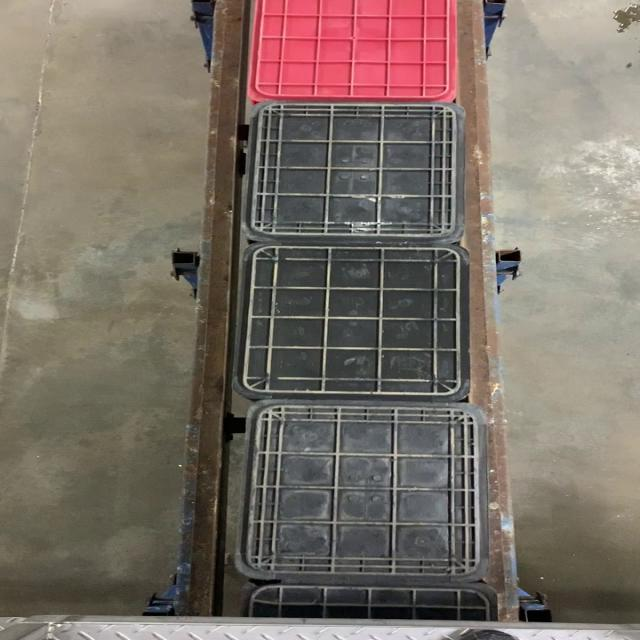Box: (234, 401, 488, 584), (231, 243, 471, 401), (239, 101, 469, 243)
